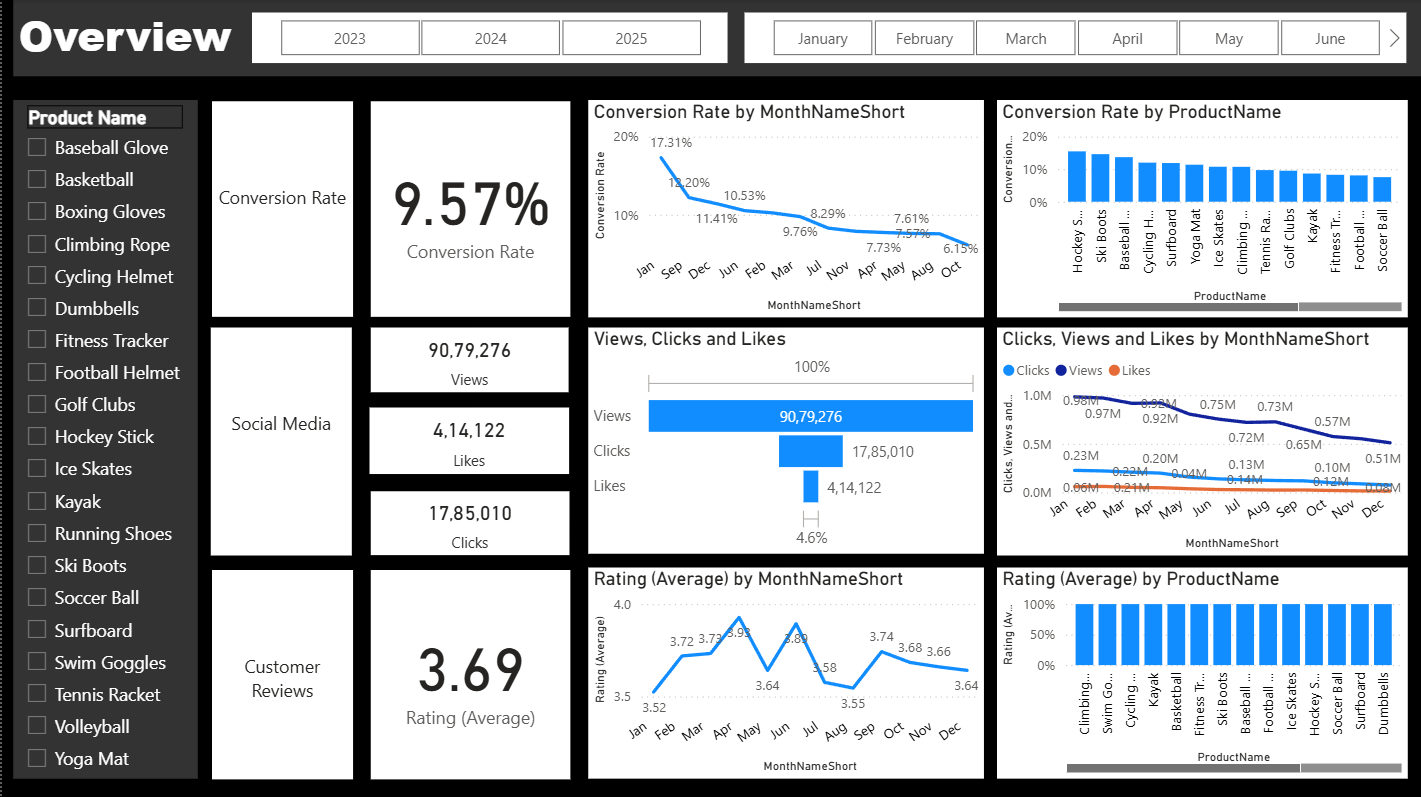

This screenshot's page, from the dashboard's own definition file:
{"tool":"powerbi","page":{"name":"Overview","canvas":[1280,720],"ordinal":0},"visuals":[{"type":"textbox","box":[9.6,0,1270.7,68.6],"z":0},{"type":"slicer","fields":{"Values":["dim_products.ProductName"]},"box":[9.6,90.6,166,612],"z":1000},{"type":"textbox","box":[189.1,90.8,126.9,194.1],"z":2000},{"type":"textbox","box":[188.6,295.7,127.1,205.7],"z":3000},{"type":"textbox","box":[189.1,513.8,126.9,189.1],"z":4000},{"type":"card","fields":{"Values":["Calculations.Conversion Rate"]},"box":[332.1,90.8,180.4,194.1],"z":5000},{"type":"card","fields":{"Values":["Calculations.Views"]},"box":[332.9,295.7,178.6,58.6],"z":6000},{"type":"card","fields":{"Values":["Calculations.Likes"]},"box":[331.4,367.1,180,60],"z":7000},{"type":"card","fields":{"Values":["Calculations.Clicks"]},"box":[332.5,443.3,179.2,57.5],"z":8000},{"type":"card","fields":{"Values":["Calculations.Rating (Average)"]},"box":[332.1,513.8,180.4,189.1],"z":9000},{"type":"slicer","fields":{"Values":["Calendar.Year"]},"box":[225.7,11.4,428.6,45.7],"z":10000},{"type":"slicer","fields":{"Values":["Calendar.MonthNameLong"]},"box":[670,11.4,597.1,45.7],"z":11000},{"type":"lineChart","fields":{"Y":["Calculations.Conversion Rate"],"Category":["Calendar.MonthNameShort"]},"box":[528.6,90,357.1,195.7],"z":12000},{"type":"clusteredColumnChart","fields":{"Category":["dim_products.ProductName"],"Y":["Calculations.Conversion Rate"]},"box":[897.1,90,370,195.7],"z":13000},{"type":"lineChart","fields":{"Category":["Calendar.MonthNameShort"],"Y":["Calculations.Clicks","Calculations.Views","Calculations.Likes"]},"box":[897.1,295.7,370,205.7],"z":14000},{"type":"funnel","fields":{"Y":["Calculations.Views","Calculations.Clicks","Calculations.Likes"]},"box":[528.6,295.7,357.1,204.3],"z":15000},{"type":"lineChart","fields":{"Category":["Calendar.MonthNameShort"],"Y":["Calculations.Rating (Average)"]},"box":[528.6,511.4,357.1,190],"z":16000},{"type":"hundredPercentStackedColumnChart","fields":{"Category":["dim_products.ProductName"],"Y":["Calculations.Rating (Average)"]},"box":[897.1,511.4,370,190],"z":17000}]}

Visuals, with their boxes in screenshot pixels (x1, y1, x2, y2), scaled from the page's 1280x720 canvas onto the 1421x797 screenshot:
textbox: {"left": 11, "top": 0, "right": 1420, "bottom": 76}
slicer - dim_products.ProductName: {"left": 11, "top": 100, "right": 195, "bottom": 778}
textbox: {"left": 210, "top": 101, "right": 351, "bottom": 315}
textbox: {"left": 209, "top": 327, "right": 350, "bottom": 555}
textbox: {"left": 210, "top": 569, "right": 351, "bottom": 778}
card - Calculations.Conversion Rate: {"left": 369, "top": 101, "right": 569, "bottom": 315}
card - Calculations.Views: {"left": 370, "top": 327, "right": 568, "bottom": 392}
card - Calculations.Likes: {"left": 368, "top": 406, "right": 568, "bottom": 473}
card - Calculations.Clicks: {"left": 369, "top": 491, "right": 568, "bottom": 554}
card - Calculations.Rating (Average): {"left": 369, "top": 569, "right": 569, "bottom": 778}
slicer - Calendar.Year: {"left": 251, "top": 13, "right": 726, "bottom": 63}
slicer - Calendar.MonthNameLong: {"left": 744, "top": 13, "right": 1407, "bottom": 63}
lineChart - Calculations.Conversion Rate x Calendar.MonthNameShort: {"left": 587, "top": 100, "right": 983, "bottom": 316}
clusteredColumnChart - dim_products.ProductName x Calculations.Conversion Rate: {"left": 996, "top": 100, "right": 1407, "bottom": 316}
lineChart - Calendar.MonthNameShort x Calculations.Clicks: {"left": 996, "top": 327, "right": 1407, "bottom": 555}
funnel - Calculations.Views x Calculations.Clicks: {"left": 587, "top": 327, "right": 983, "bottom": 553}
lineChart - Calendar.MonthNameShort x Calculations.Rating (Average): {"left": 587, "top": 566, "right": 983, "bottom": 776}
hundredPercentStackedColumnChart - dim_products.ProductName x Calculations.Rating (Average): {"left": 996, "top": 566, "right": 1407, "bottom": 776}
